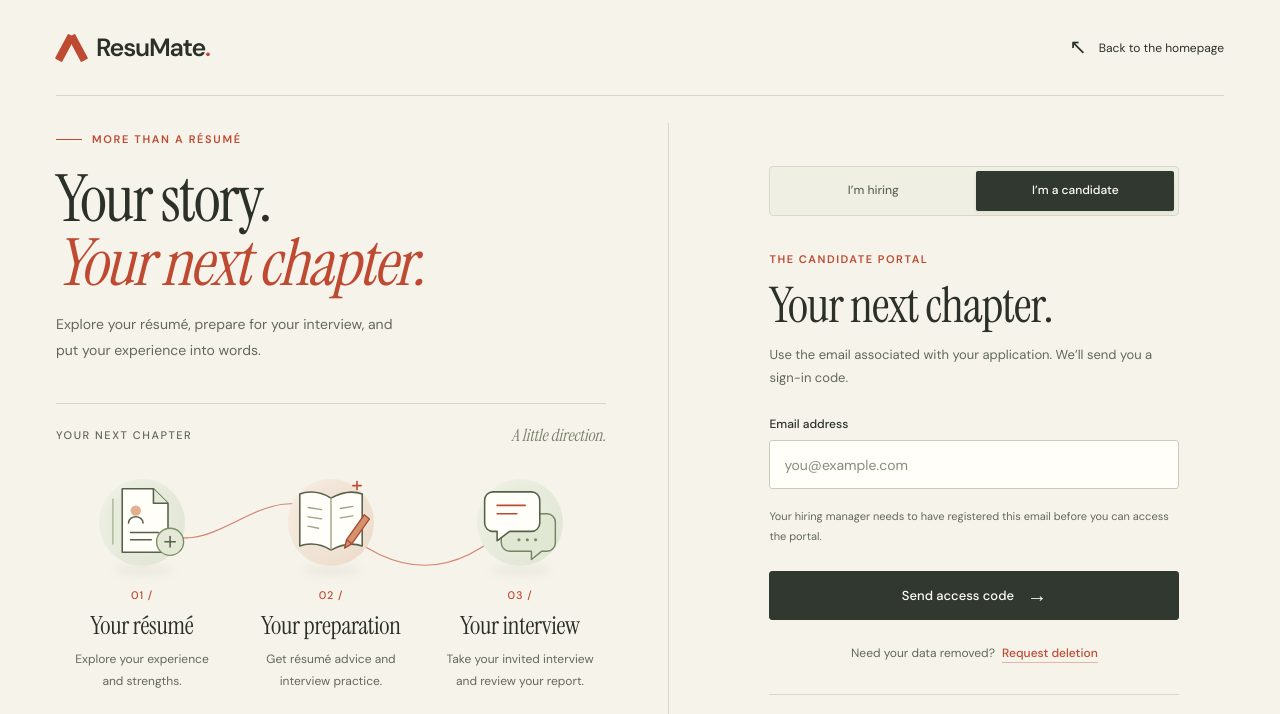
the code step › sends a new code to the same address, and says so
Type "Dana@X.com" into the field labelled "Email address" at (974, 465), box 769,440 -> 1179,489
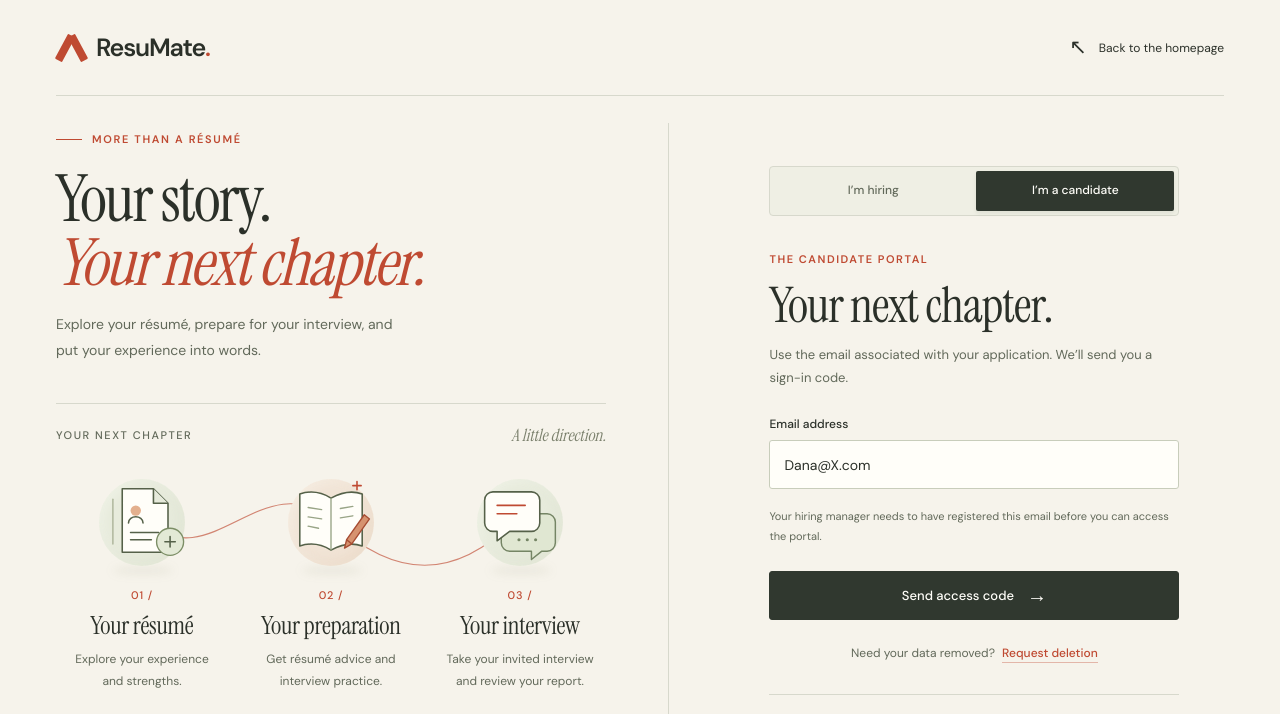
Click the button "Send access code →" at (974, 595), box 769,571 -> 1179,620
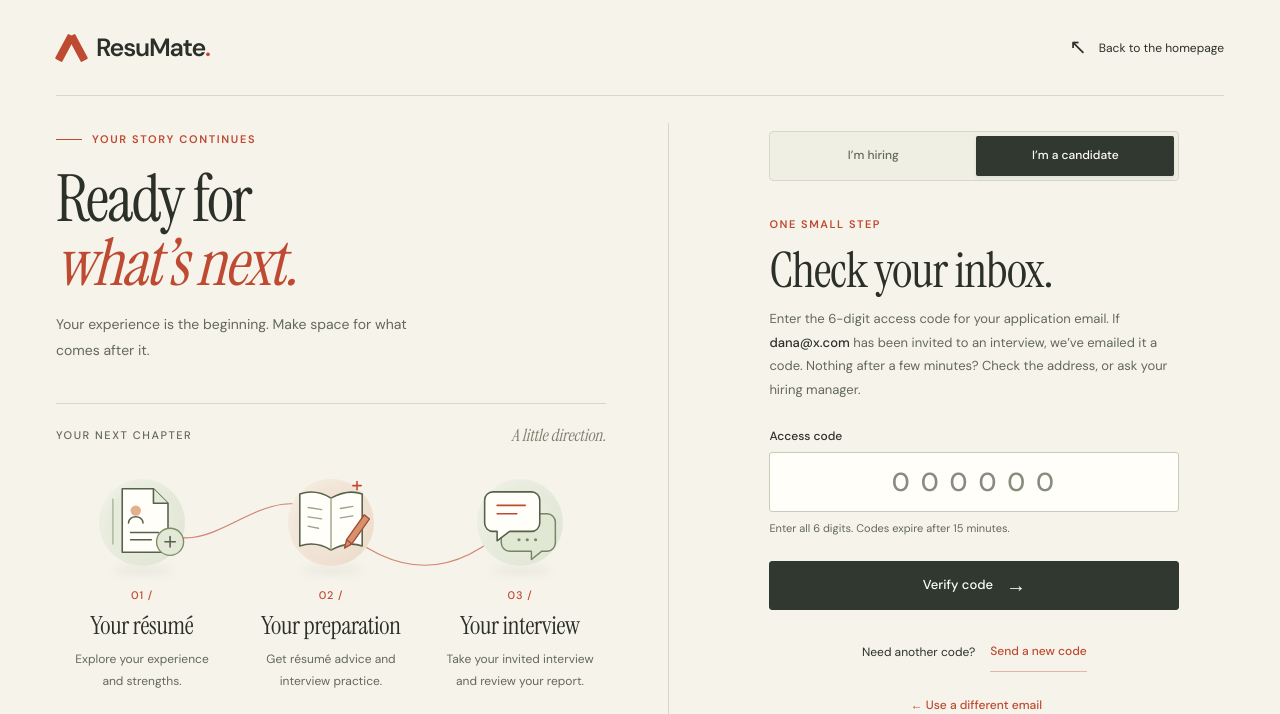
Type "123456" into the field labelled "Access code" at (974, 482), box 769,452 -> 1179,512
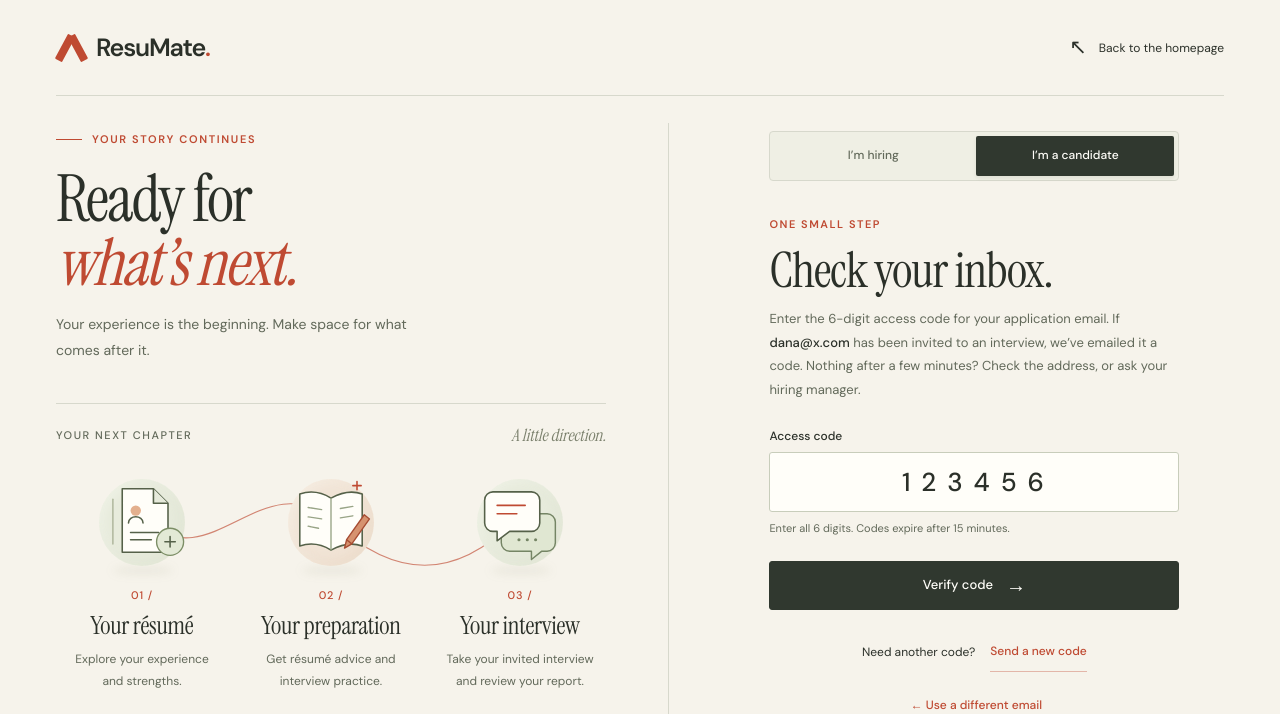
Click the button "Verify code →" at (974, 585), box 769,561 -> 1179,610
(page scrolled)
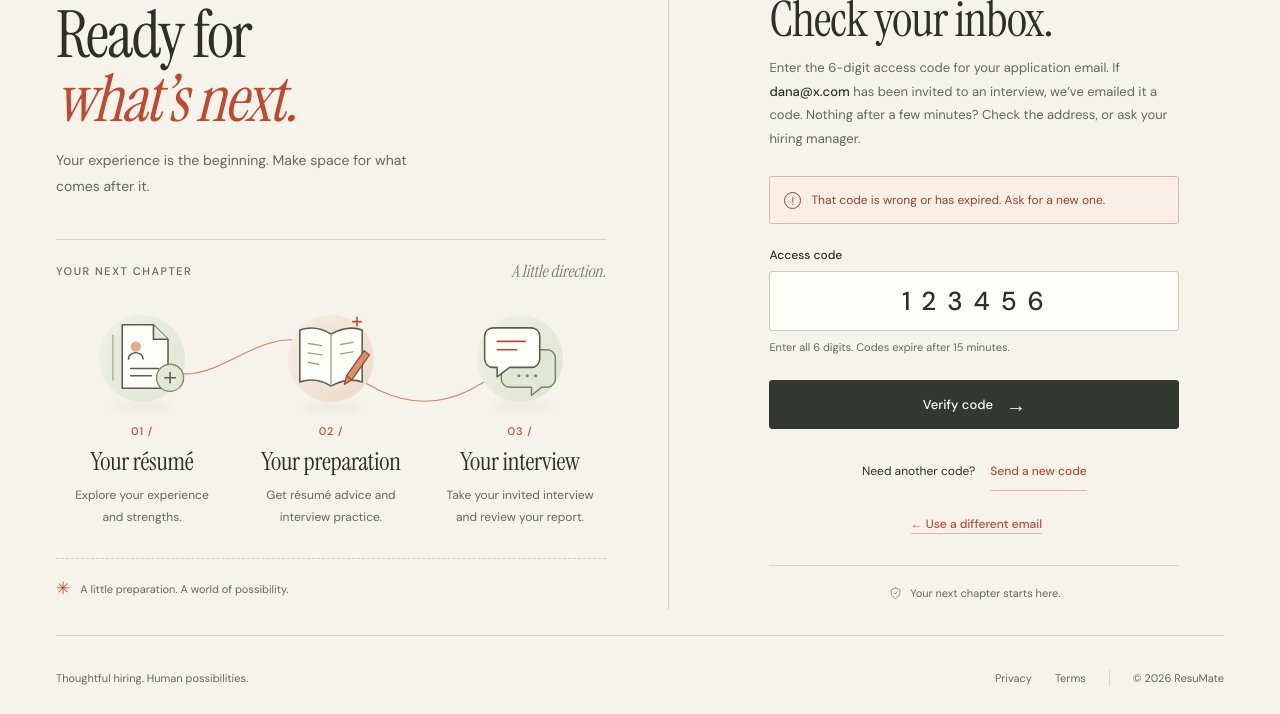
Now the text "That code is wrong or has expired. Ask for a new one." is shown, box 811,190 -> 1105,210
Click the button "Send a new code" at (1039, 471), box 990,451 -> 1087,491
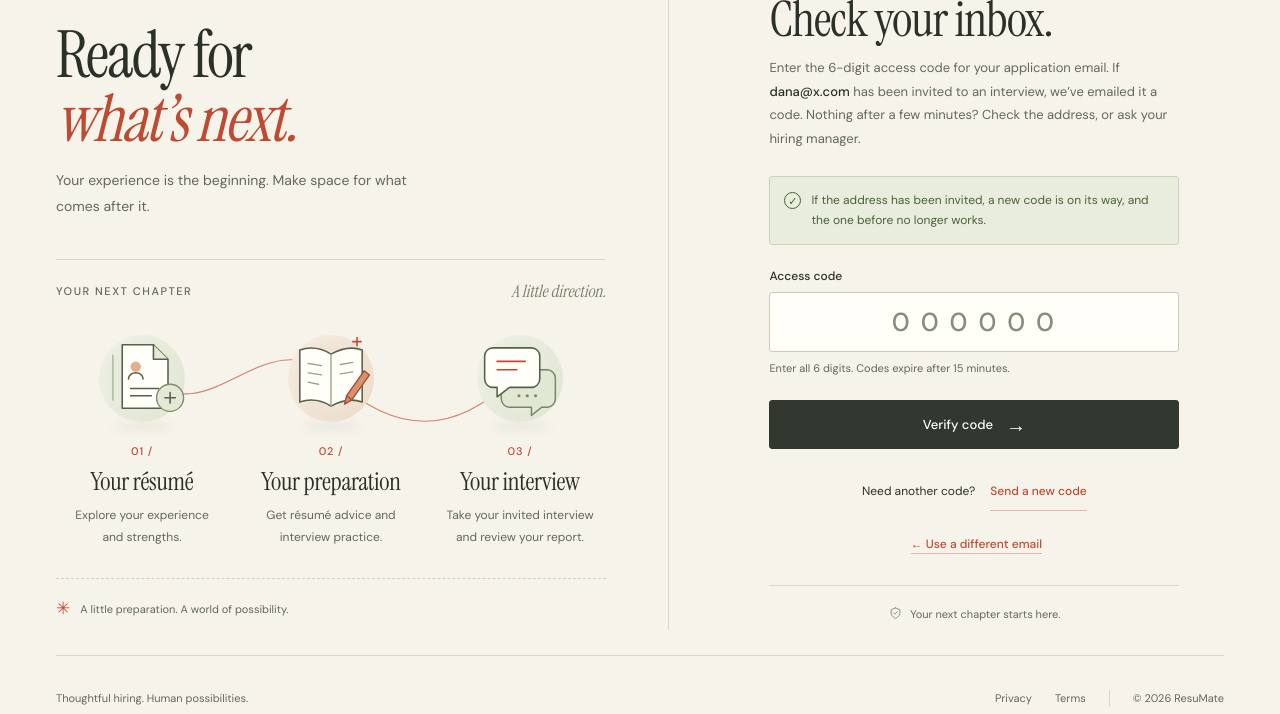
Now the text "If the address has been invited, a new code is on its way, and the one before no longer works." is shown, box 811,192 -> 1149,228
Now the field labelled "Access code" is empty, box 769,292 -> 1179,352
Now the text "That code is wrong or has expired. Ask for a new one." is gone
